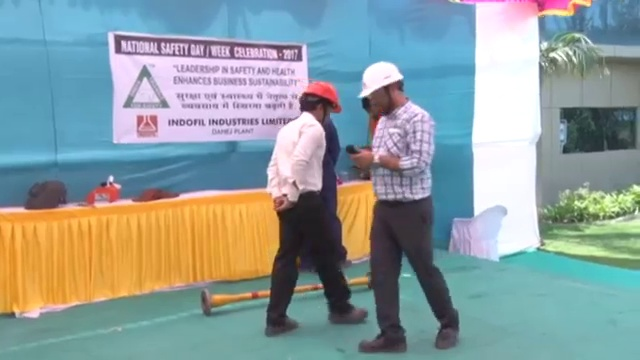helmet: (355, 61, 406, 100), (303, 79, 346, 114)
helmet_on: (354, 60, 407, 114), (302, 76, 346, 124)
person: (354, 62, 460, 351), (265, 76, 368, 334), (319, 111, 355, 272)
